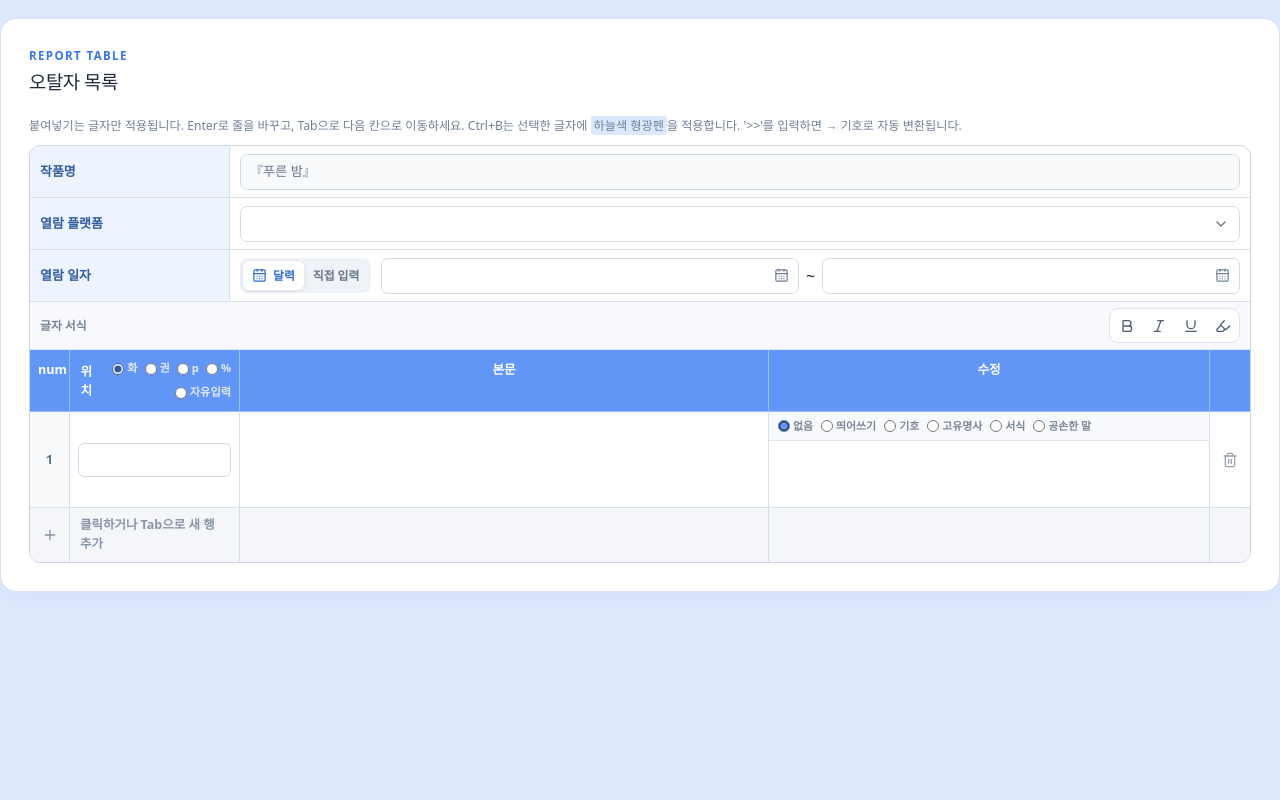
Test case: 오탈자 표 › 첫 행이 존재하고 회색 추가 행을 선택하면 다음 행을 활성화한다
expect the field named "1행 본문" is shown: met, box x1=240 y1=412 x2=768 y2=478
Click the button with aria-label "새 오탈자 행 추가". click: (640, 535)
box: x1=30 y1=508 x2=1250 y2=562
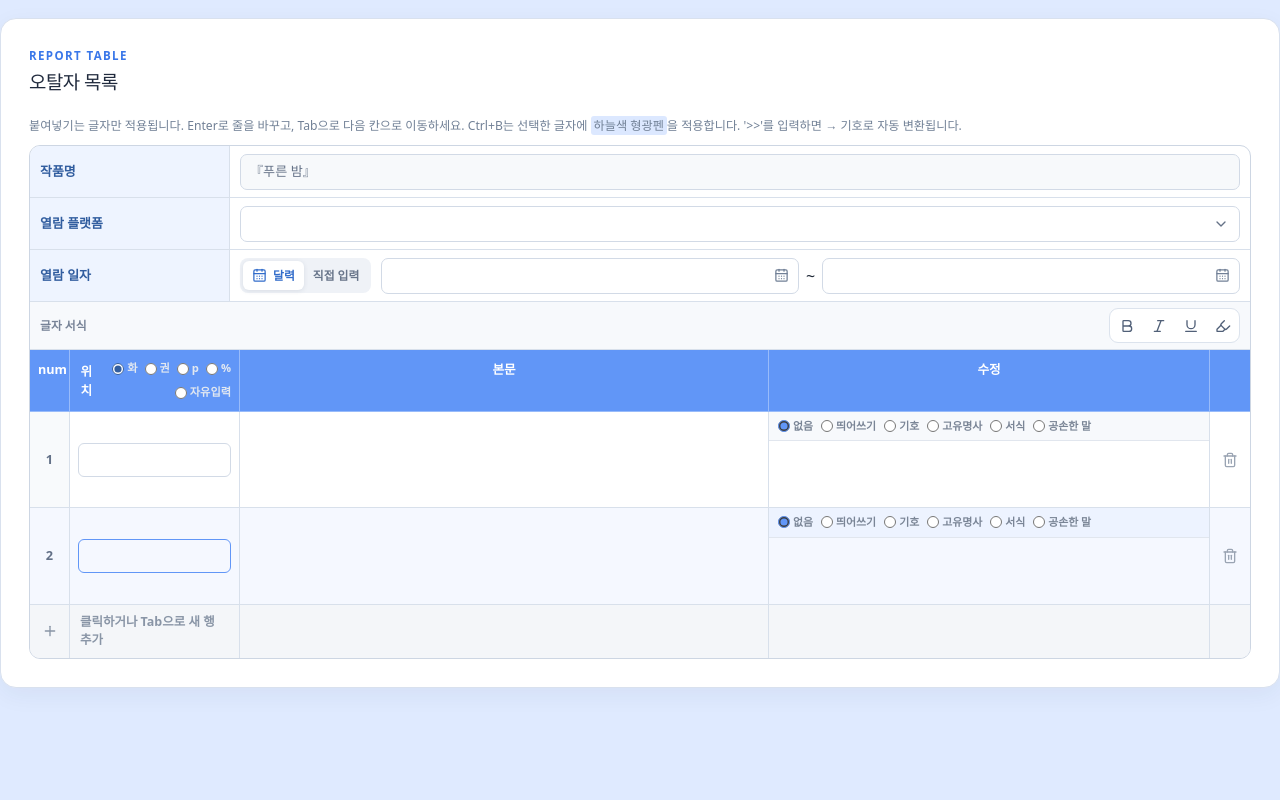
expect the field named "2행 본문" is shown: met, box x1=240 y1=508 x2=768 y2=574
